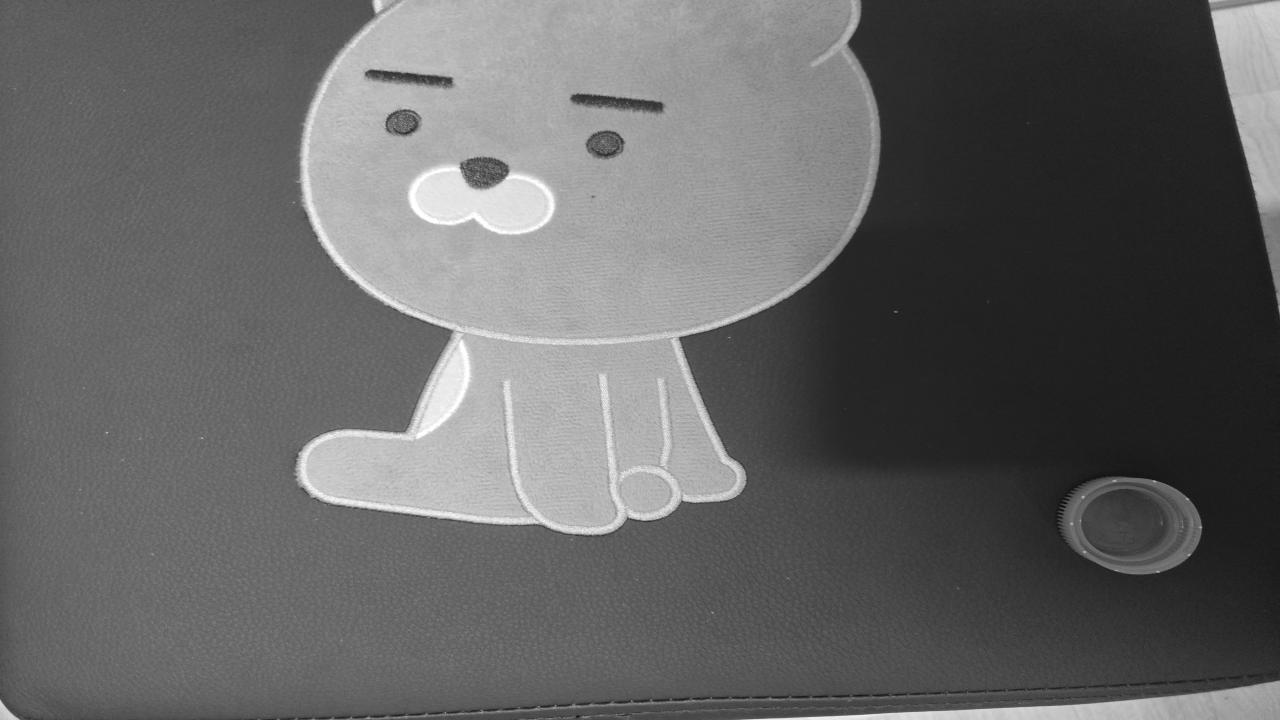bottle_cap: (1047, 472, 1209, 577)
